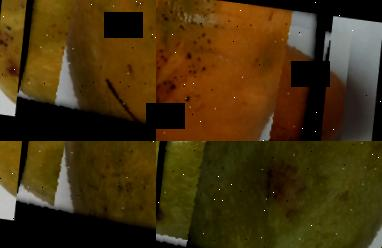PartiallyRipe: (16, 0, 156, 141), (15, 141, 156, 248)
Ripe: (156, 0, 331, 141)
Unripe: (156, 141, 382, 248)
